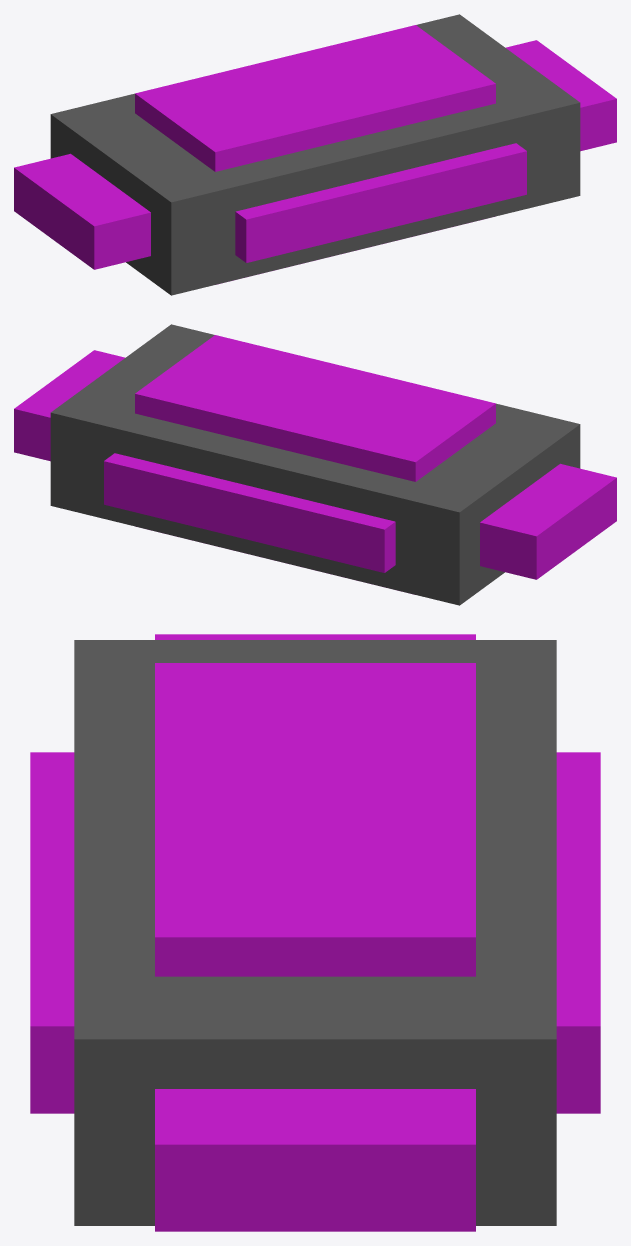
File: tile_pink.FBX
The picture shows the model from 3 angles, top to bottom: view 1: azimuth 30°, elevation 25°; view 2: azimuth 150°, elevation 25°; view 3: azimuth 270°, elevation 25°; orthographic projection. The views are drawn at different scales.
Visible parts, largest first — view 1: Box001; view 2: Box001; view 3: Box001.
Boxes of the visible parts, x1,y1,x2,y2 form: Box001: (14, 14, 616, 295); Box001: (14, 324, 616, 605); Box001: (30, 634, 600, 1231).
Bounding box in the file's own units: 46.57 × 11.31 × 21.99.
